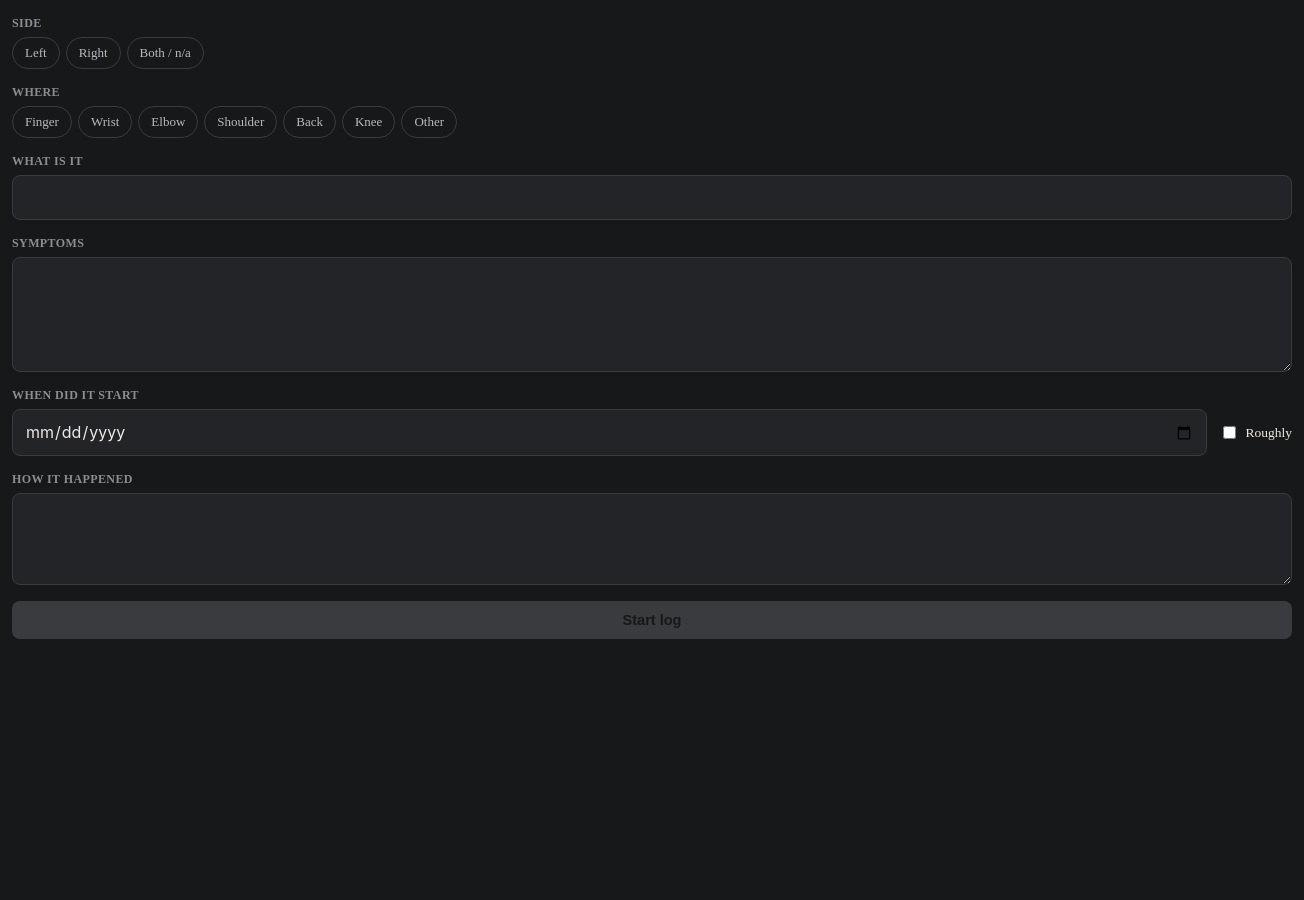
Test case: InjuryForm › keeps Start log disabled until the spot is picked, then previews the title
The width and height of the screenshot is (1304, 900).
Expected: the button "Start log" is disabled, x1=12 y1=601 x2=1292 y2=639
Click the button "Right".
click(93, 53)  # box x1=66 y1=37 x2=121 y2=69
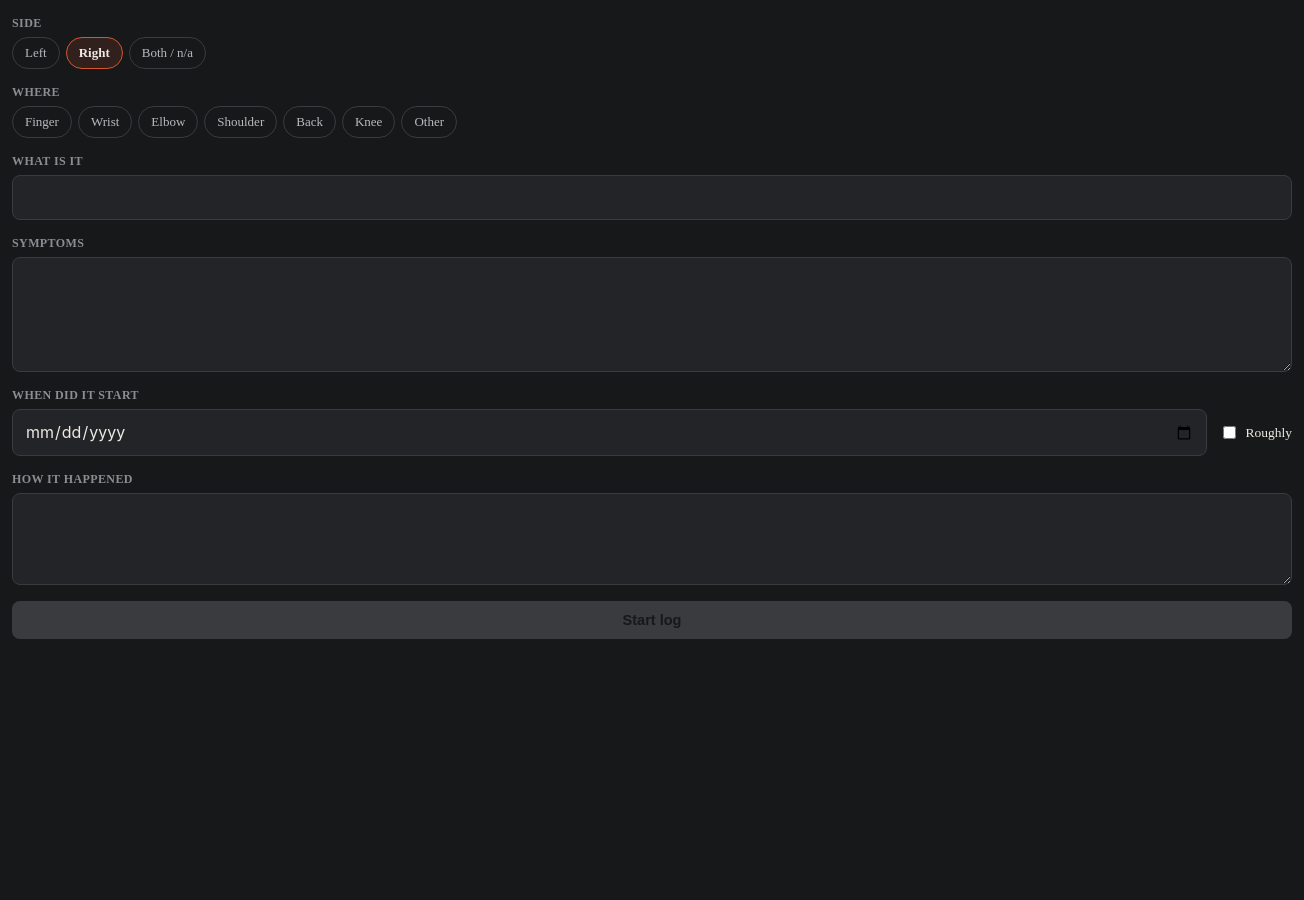
Click the button "Finger".
click(42, 122)  # box x1=12 y1=106 x2=72 y2=138
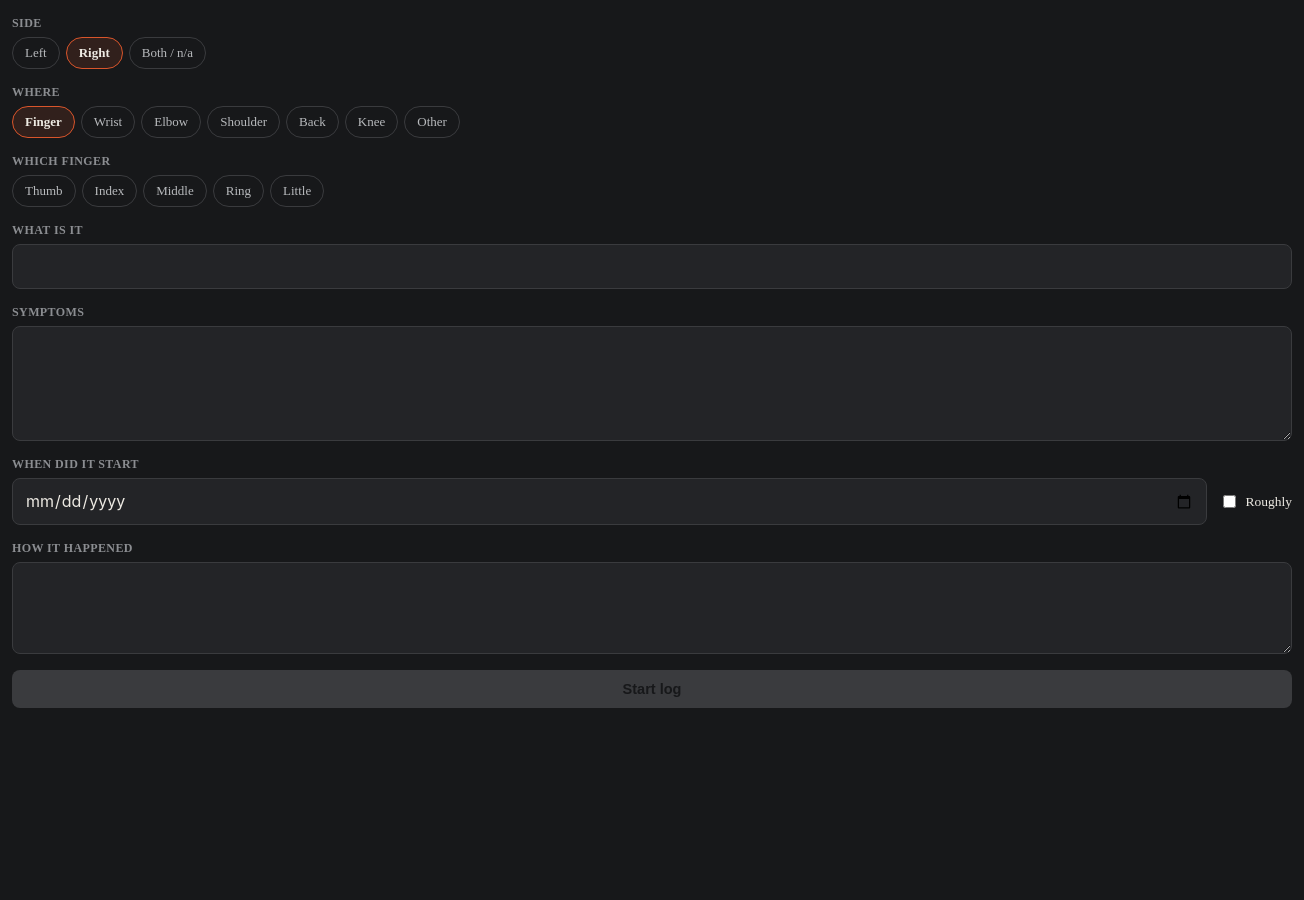
Expected: the button "Start log" is disabled, x1=12 y1=670 x2=1292 y2=708
Click the button "Middle".
click(175, 191)  # box x1=143 y1=175 x2=207 y2=207
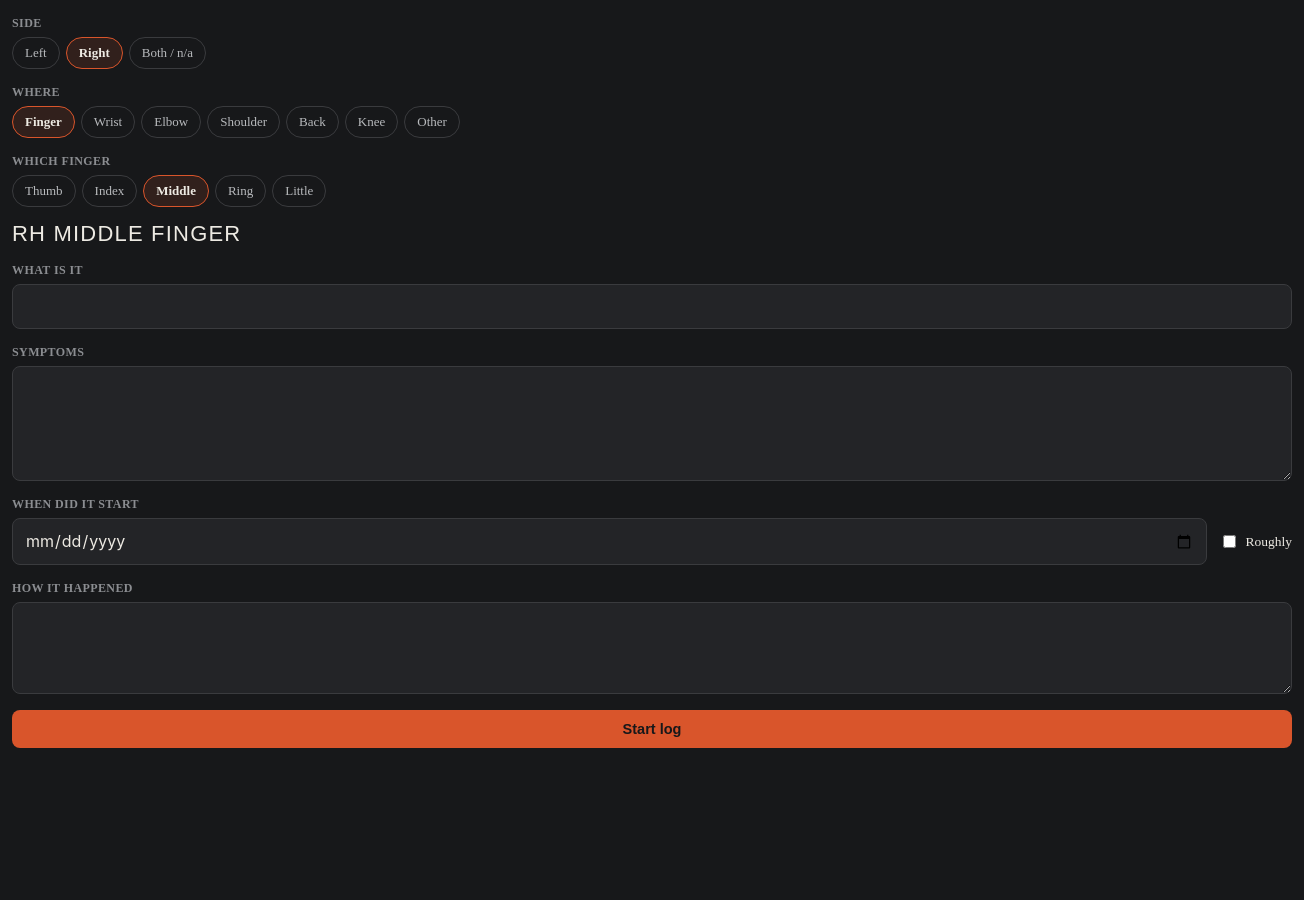
Now the button "Start log" is enabled, box x1=12 y1=710 x2=1292 y2=748
Now the text "RH middle finger" is shown, box x1=12 y1=221 x2=241 y2=246
